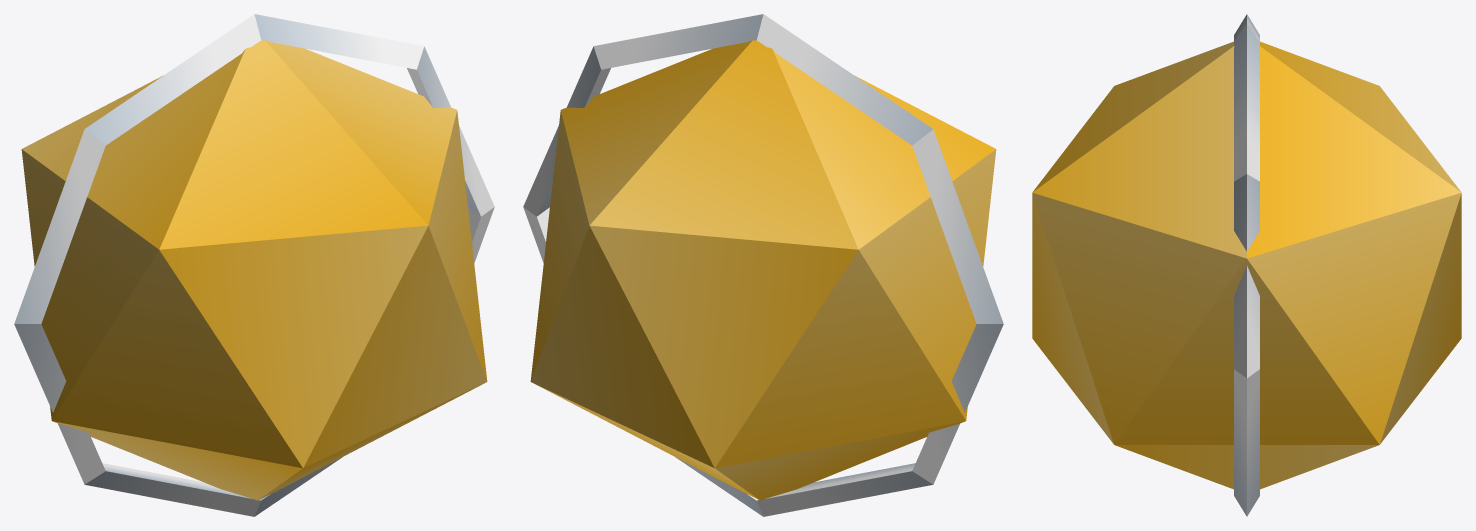
The model's file is dt_tennis_ball.fbx.
3 views of the same model, side by side, from view 1: azimuth 30°, elevation 25°; view 2: azimuth 150°, elevation 25°; view 3: azimuth 270°, elevation 25° (orthographic). The views are drawn at different scales.
Parts seen in each view (by area): view 1: dt_tennis_ball; view 2: dt_tennis_ball; view 3: dt_tennis_ball.
Part boxes in pixels (x1,y1,x2,y2): dt_tennis_ball: [14, 14, 494, 516]; dt_tennis_ball: [523, 14, 1003, 516]; dt_tennis_ball: [1032, 14, 1461, 516].
Size of the model in its own units: 60 by 60 by 48.15.
